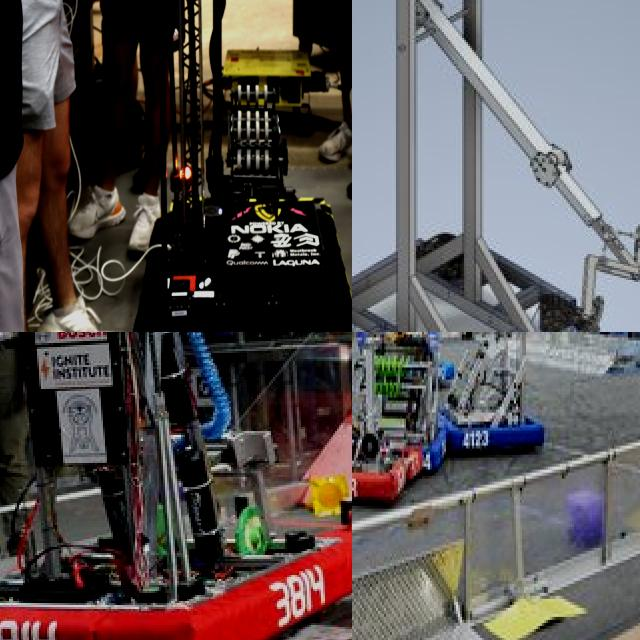FRC-Robots: (0, 332, 352, 640), (352, 0, 640, 332), (94, 0, 352, 332), (352, 332, 455, 472), (454, 332, 564, 458), (352, 426, 409, 536)
